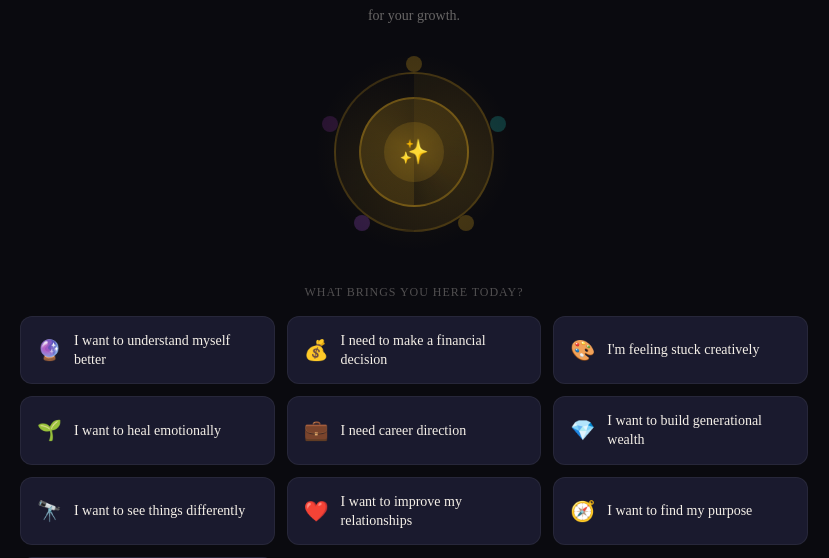
Test: SpiralHub › renders recommendation cards with links to system pages
Click the text "I need to make a financial decision": (413, 350) [341,333,486,367]
(page scrolled)
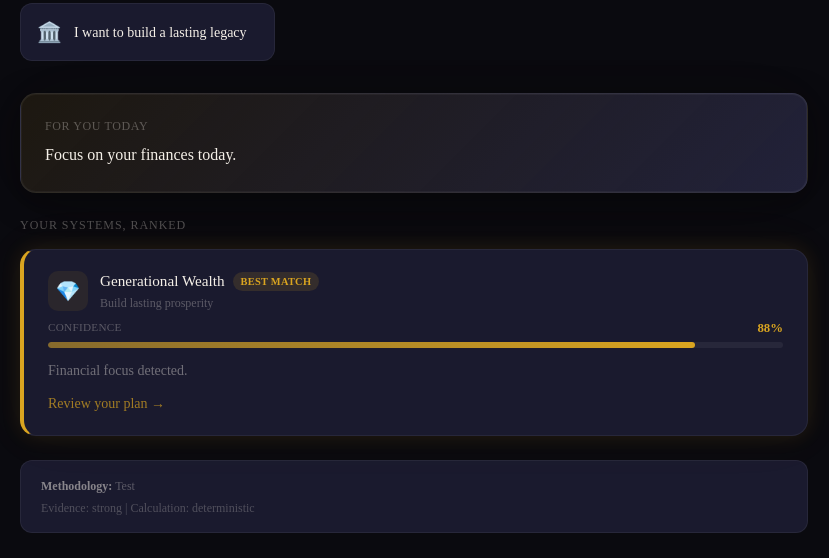
Expected: the heading "Generational Wealth" is shown, [100,270,225,293]
